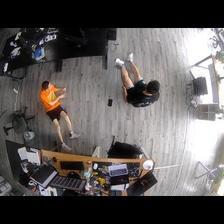fall: (37, 81, 81, 152), (115, 52, 160, 107)
